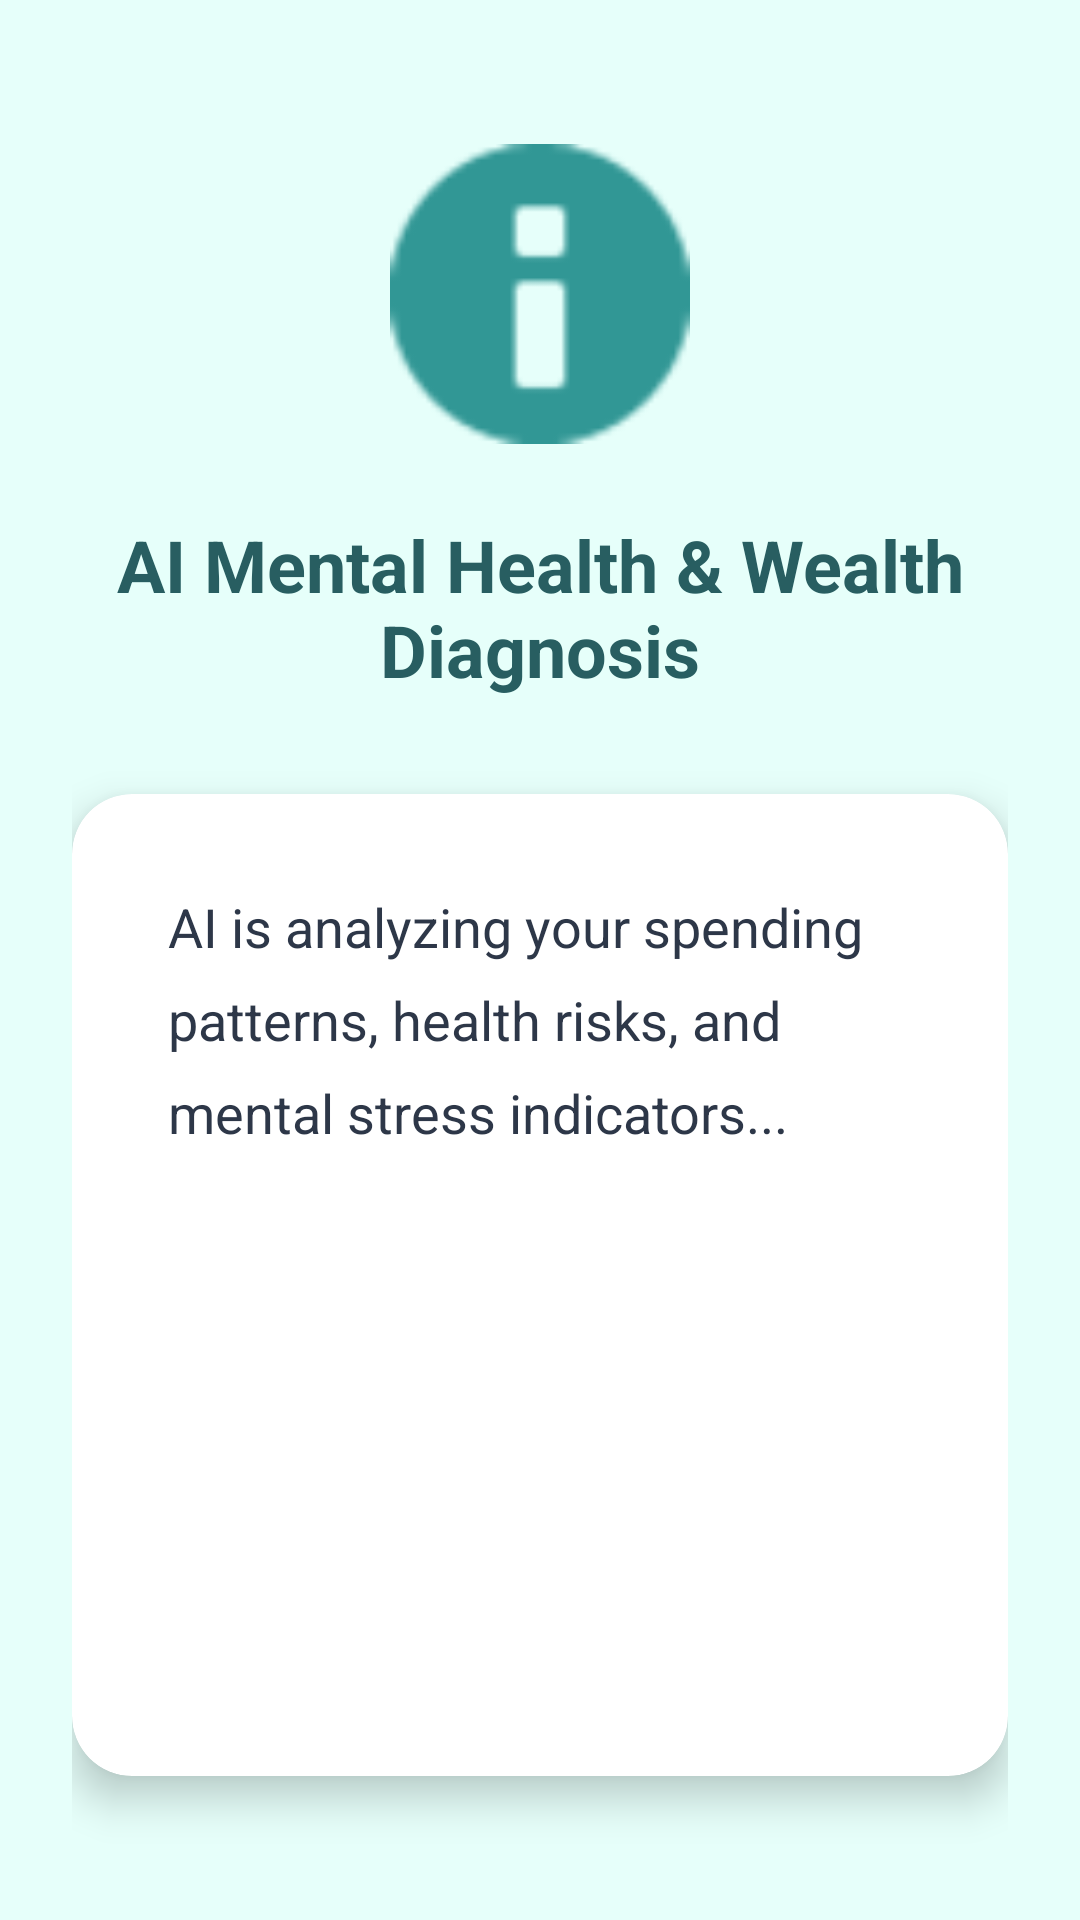

Named icons in this screenshot (1080 × 1920) and their bounding boxes, (x1, y1, x2, y2):
info: (390, 144, 690, 444)
